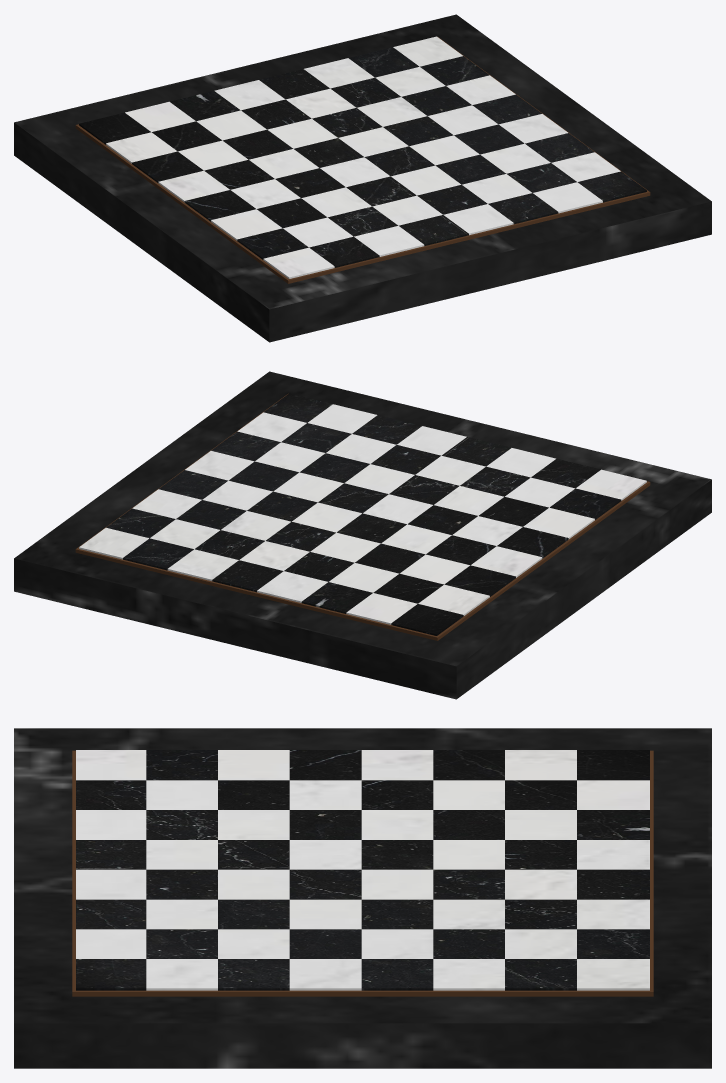
Rendered from board.obj.
3 views of the same model, one above another, from view 1: azimuth 30°, elevation 25°; view 2: azimuth 150°, elevation 25°; view 3: azimuth 270°, elevation 25° (orthographic). The views are drawn at different scales.
Visible parts, largest first — view 1: Chess Board_08 - Default_0, Chess Board_07 - Default_0, Chess Board_02 - Default_0, Chess Board_03 - Default_0; view 2: Chess Board_08 - Default_0, Chess Board_02 - Default_0, Chess Board_07 - Default_0, Chess Board_03 - Default_0; view 3: Chess Board_08 - Default_0, Chess Board_07 - Default_0, Chess Board_02 - Default_0, Chess Board_03 - Default_0.
Boxes of the visible parts, x1,y1,x2,y2 form: Chess Board_08 - Default_0: [14, 14, 711, 342]; Chess Board_07 - Default_0: [106, 36, 620, 278]; Chess Board_02 - Default_0: [79, 47, 646, 267]; Chess Board_03 - Default_0: [75, 36, 650, 283]; Chess Board_08 - Default_0: [14, 371, 711, 699]; Chess Board_02 - Default_0: [106, 393, 621, 635]; Chess Board_07 - Default_0: [79, 404, 646, 624]; Chess Board_03 - Default_0: [75, 393, 650, 640]; Chess Board_08 - Default_0: [14, 728, 711, 1068]; Chess Board_07 - Default_0: [76, 750, 649, 990]; Chess Board_02 - Default_0: [76, 750, 649, 990]; Chess Board_03 - Default_0: [72, 750, 653, 996].
Size of the model in its own units: 2.05 by 0.1682 by 2.05.
Materials: 4 (3 with a texture image).
